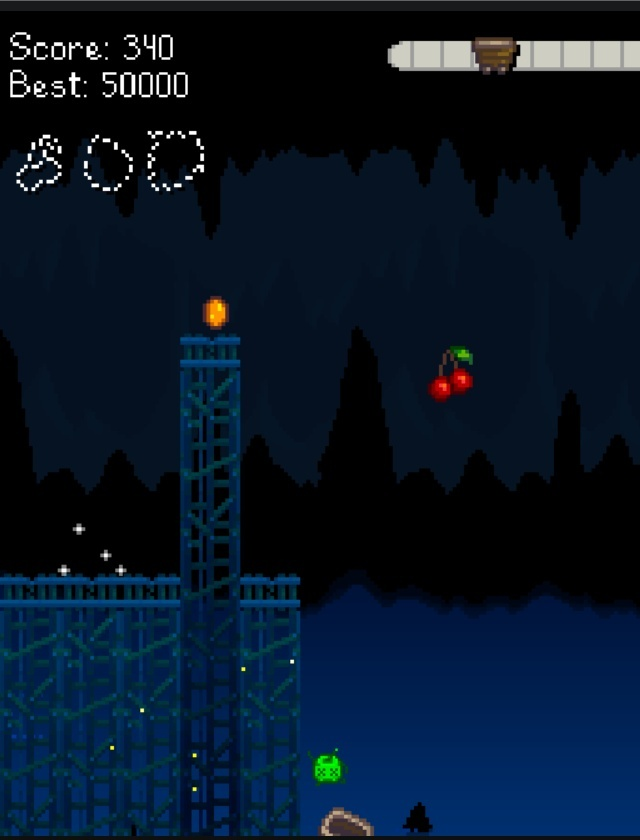cherry: (426, 331, 475, 405)
coins: (204, 296, 228, 329)
minecart: (318, 808, 374, 836)
tracks: (0, 572, 179, 607), (171, 326, 255, 373), (240, 575, 299, 609), (253, 576, 299, 586)
